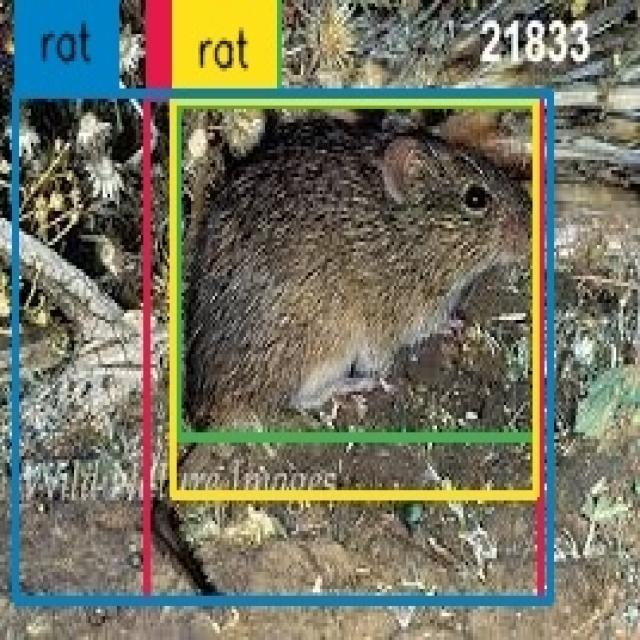rat: (16, 94, 550, 600), (148, 99, 540, 599), (175, 100, 538, 496), (178, 104, 536, 437)
